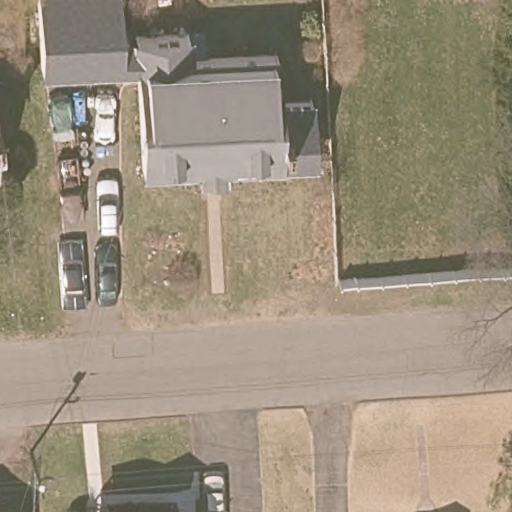DT: (27, 449, 52, 501)
